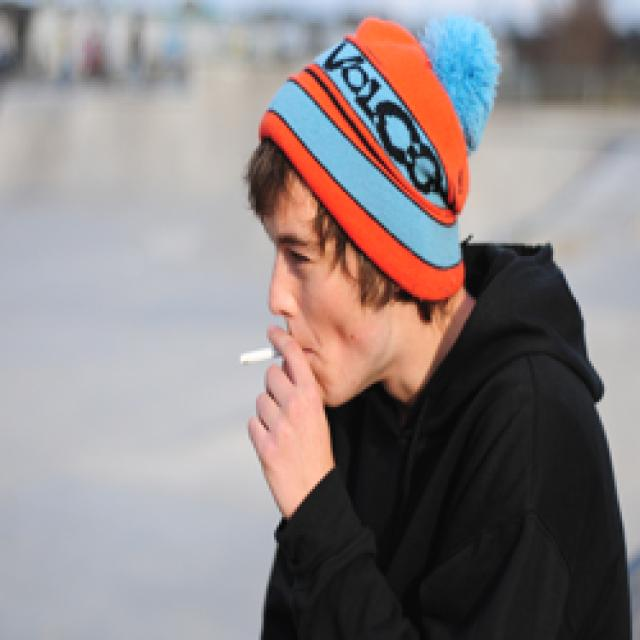Smooking: (221, 331, 283, 366)
